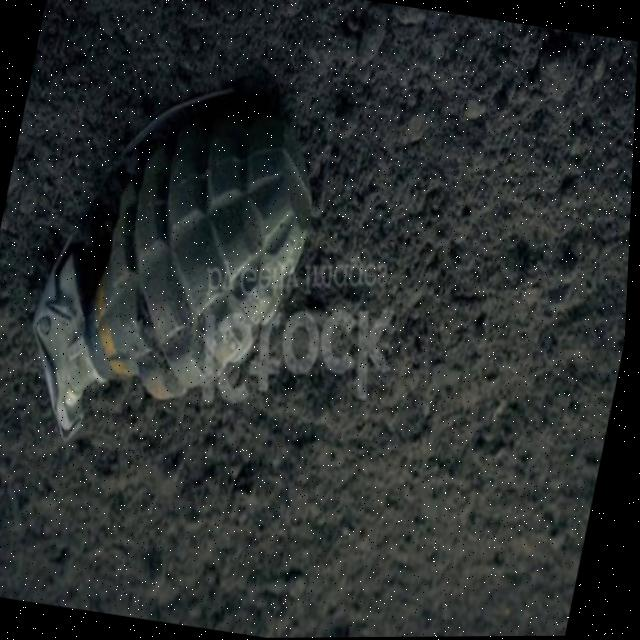grenade: (0, 41, 379, 483)
